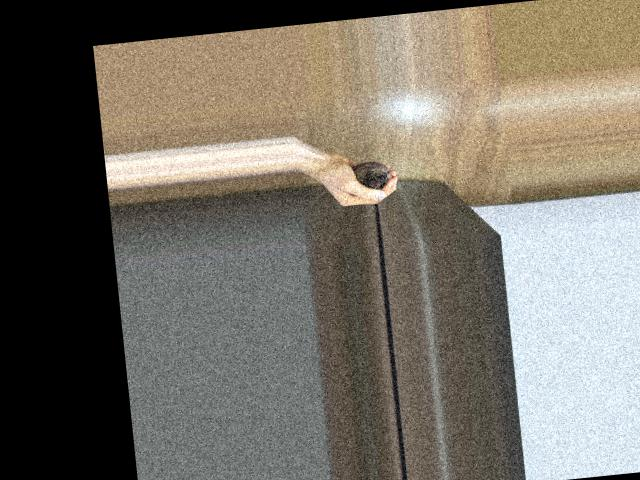beet: (351, 159, 396, 219)
